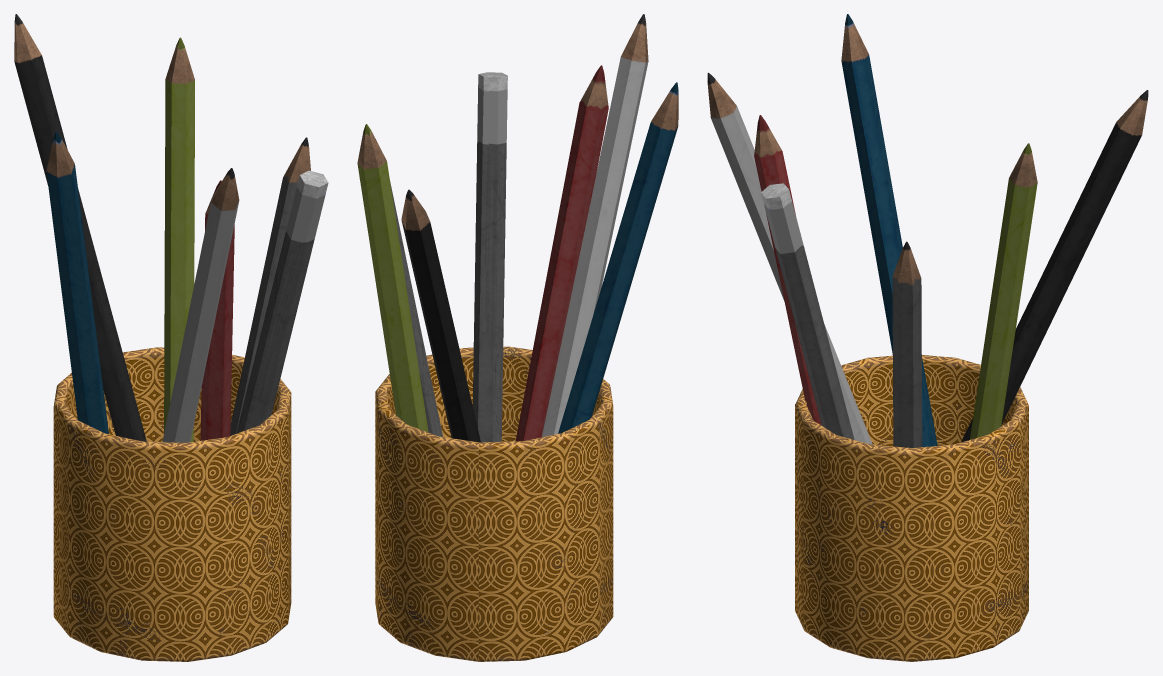
The picture shows the model from 3 angles, left to right: view 1: azimuth 30°, elevation 25°; view 2: azimuth 150°, elevation 25°; view 3: azimuth 270°, elevation 25°; orthographic projection. The views are drawn at different scales.
Visible parts, largest first — view 1: Penholder.001_2; view 2: Penholder.001_2; view 3: Penholder.001_2.
Boxes of the visible parts, <box> form: Penholder.001_2: <box>14,14,328,661</box>; Penholder.001_2: <box>357,14,678,661</box>; Penholder.001_2: <box>707,14,1148,661</box>.
Size of the model in its own units: 0.1383 by 0.2494 by 0.1884.
Materials: 3 (3 with a texture image).
